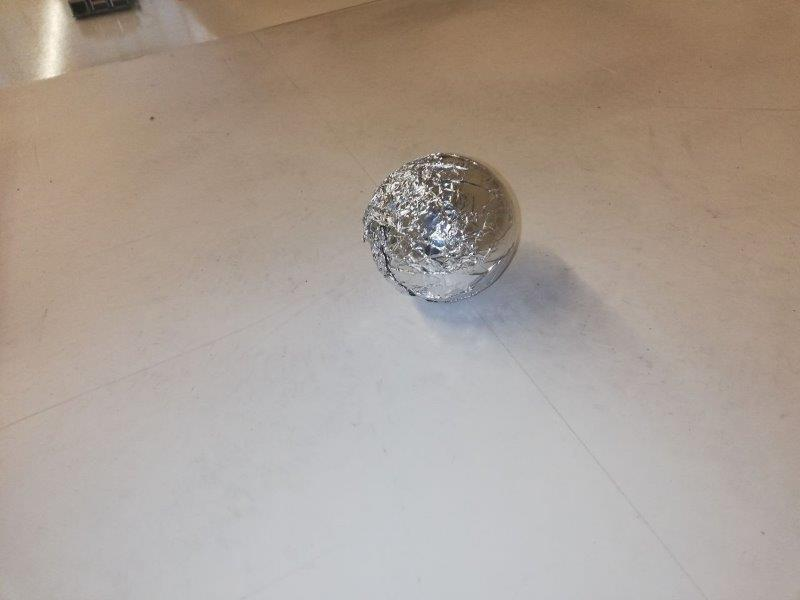bianca: (364, 153, 519, 300)
